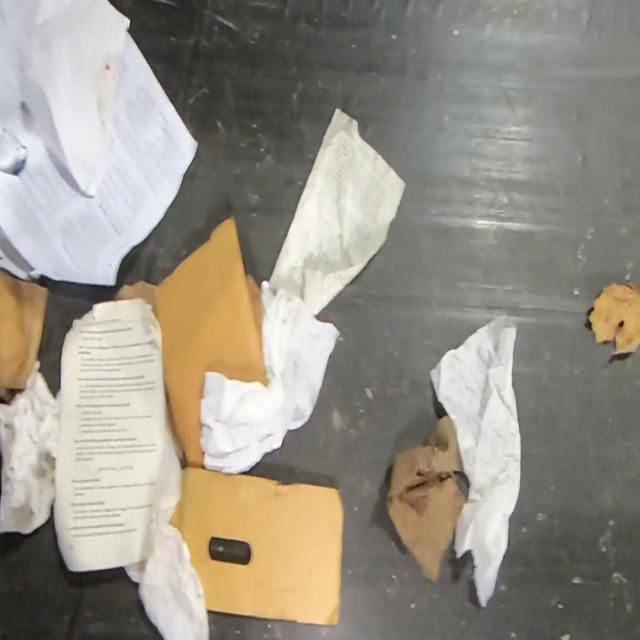cardboard: (112, 212, 269, 468), (167, 467, 344, 626), (0, 270, 49, 411)
